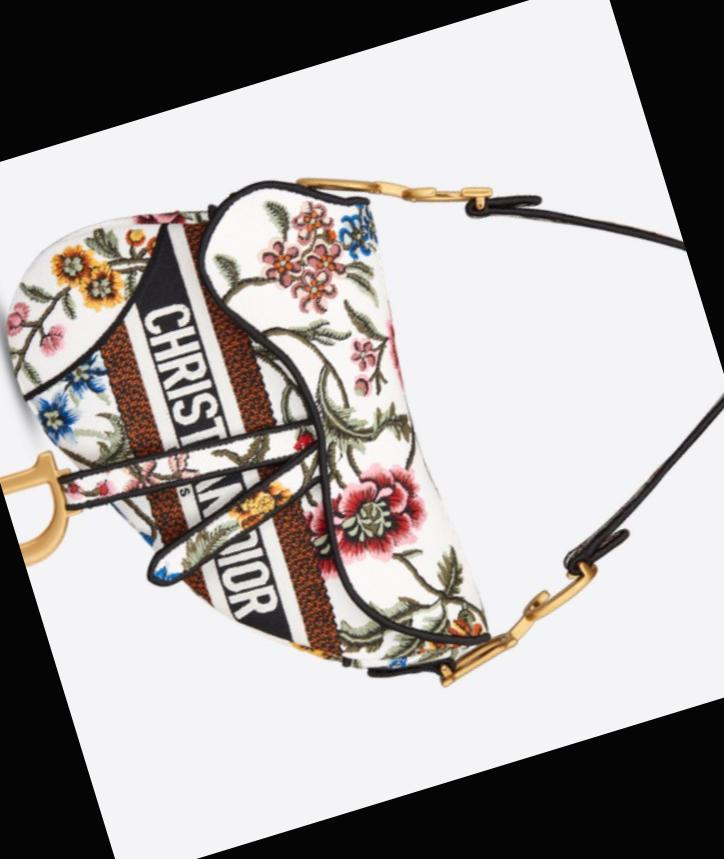DIOR: (121, 272, 307, 638)
